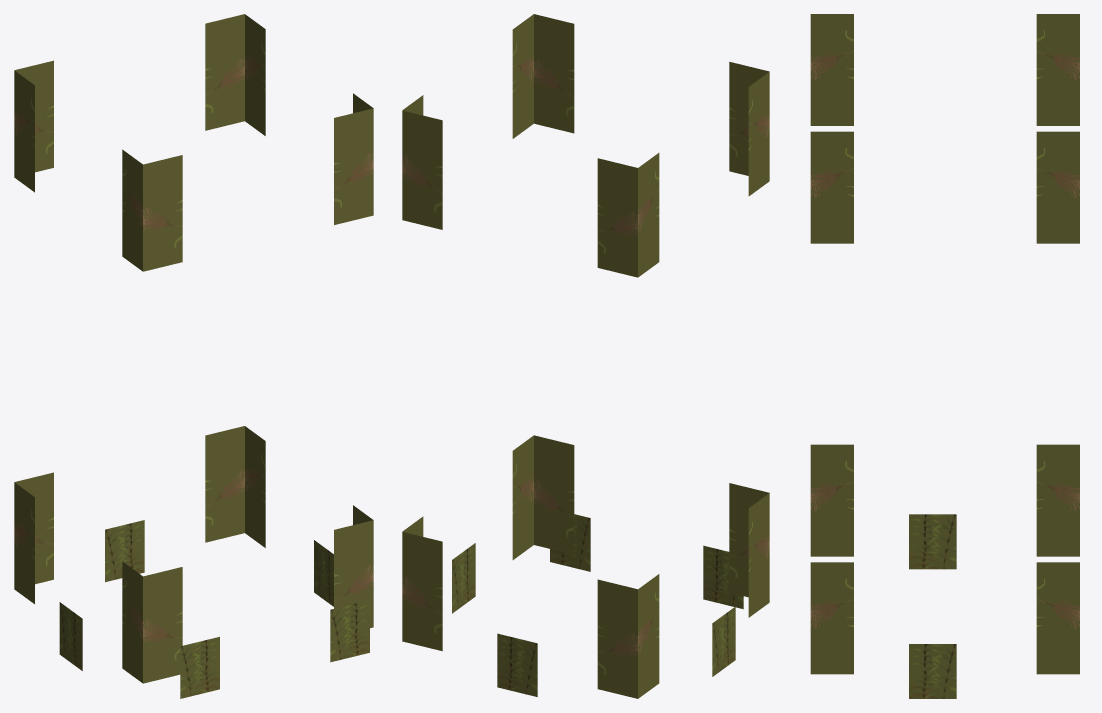
Rendered from stone_tower_f.dae.
3 views of the same model, side by side, from view 1: azimuth 30°, elevation 25°; view 2: azimuth 150°, elevation 25°; view 3: azimuth 270°, elevation 25° (orthographic). The views are drawn at different scales.
Visible parts, largest first — view 1: stone_tower_f; view 2: stone_tower_f; view 3: stone_tower_f.
Boxes of the visible parts, <box> form: stone_tower_f: <box>14,14,373,698</box>; stone_tower_f: <box>402,14,769,698</box>; stone_tower_f: <box>810,14,1079,698</box>.
Bounding box in the file's own units: 6.88 × 6.49 × 13.91.
Materials: 1 (1 with a texture image).
